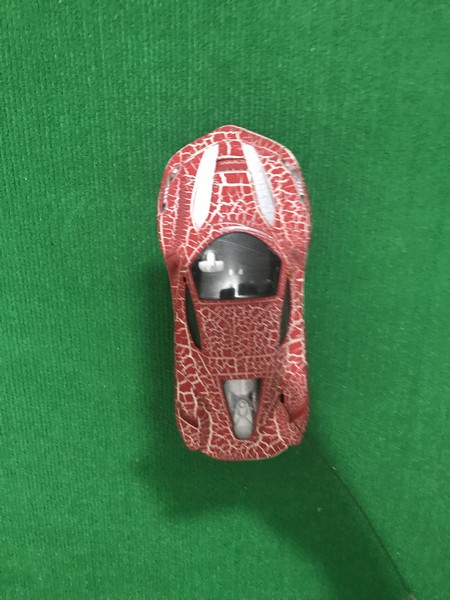RC: (154, 121, 312, 463)
